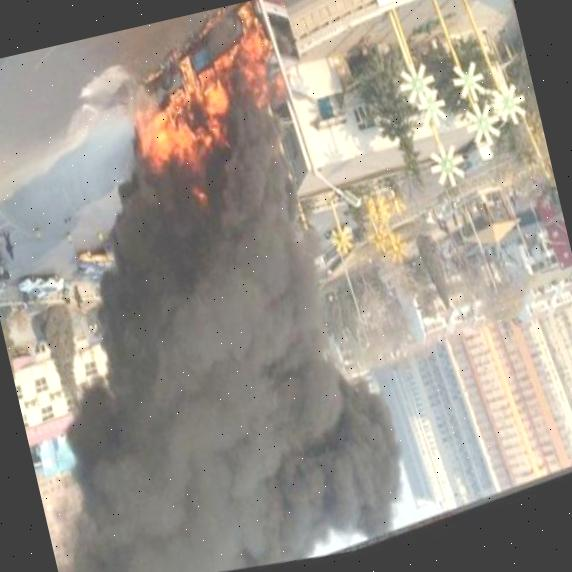fire: (226, 35, 281, 117), (129, 112, 180, 182), (166, 126, 201, 178), (195, 86, 231, 129), (188, 125, 223, 161), (173, 64, 200, 110), (232, 9, 259, 49), (159, 94, 188, 124)
smoke: (69, 119, 419, 572), (58, 294, 203, 572), (31, 435, 151, 572)
